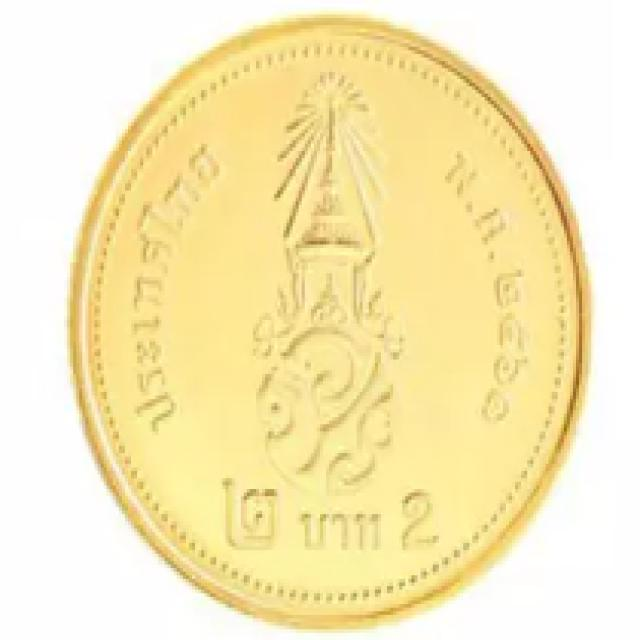2 Bath: (43, 2, 604, 636)
